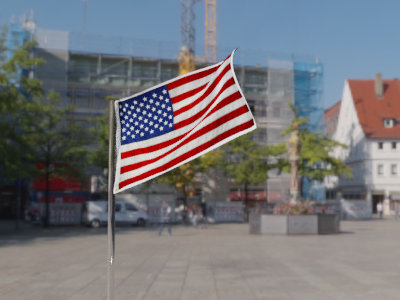America flag: (114, 46, 256, 193)
